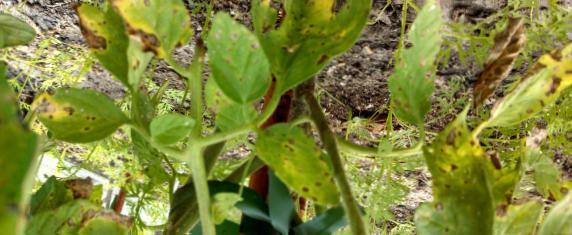Tomato Septoria leaf spot: (414, 108, 508, 235), (480, 44, 572, 129), (256, 117, 338, 206), (389, 1, 446, 125), (202, 11, 276, 105), (26, 77, 125, 146), (65, 3, 146, 86), (103, 0, 191, 60)
